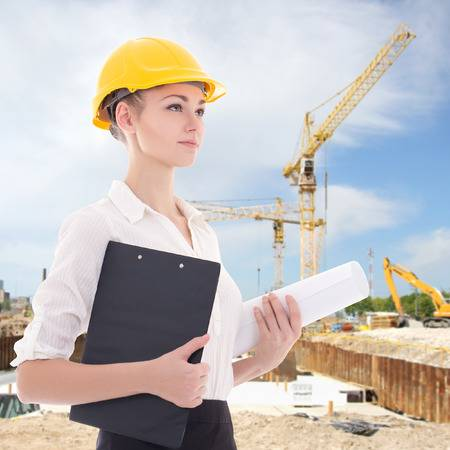casco: (88, 35, 228, 132)
